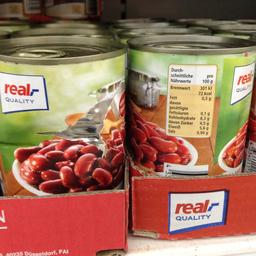beans: (0, 34, 123, 196), (126, 34, 252, 180)
